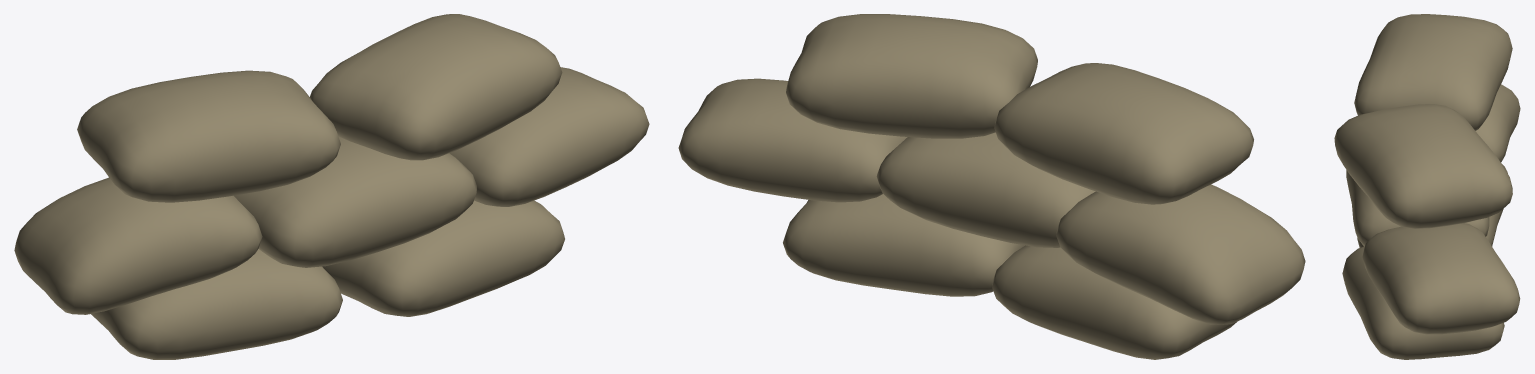
The model's file is sack-trench-small.glb.
3 renders of one model, left to right at view 1: azimuth 30°, elevation 25°; view 2: azimuth 150°, elevation 25°; view 3: azimuth 270°, elevation 25°, orthographic. The views are drawn at different scales.
Visible parts, largest first — view 1: SackTrench_Small; view 2: SackTrench_Small; view 3: SackTrench_Small.
Part boxes in pixels (bbox=[...]): SackTrench_Small: bbox=[14, 14, 649, 359]; SackTrench_Small: bbox=[678, 14, 1305, 359]; SackTrench_Small: bbox=[1334, 14, 1520, 359].
Bounding box in the file's own units: 2.32 × 0.9322 × 0.7472.
